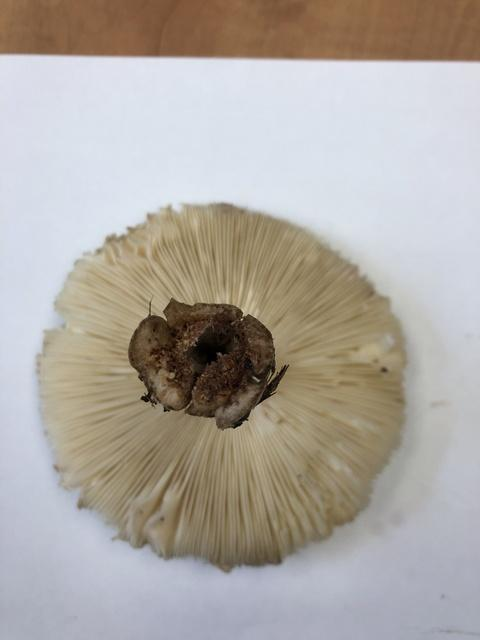Non-edible Mushroom: (33, 199, 408, 572)
